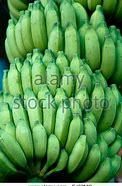banana: (1, 0, 122, 179), (0, 92, 122, 186), (2, 0, 122, 67), (2, 52, 121, 107)
